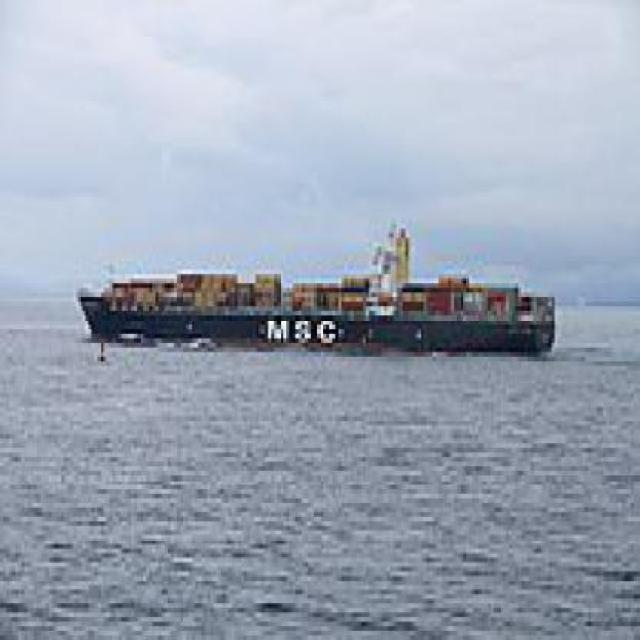container: (71, 216, 562, 371)
